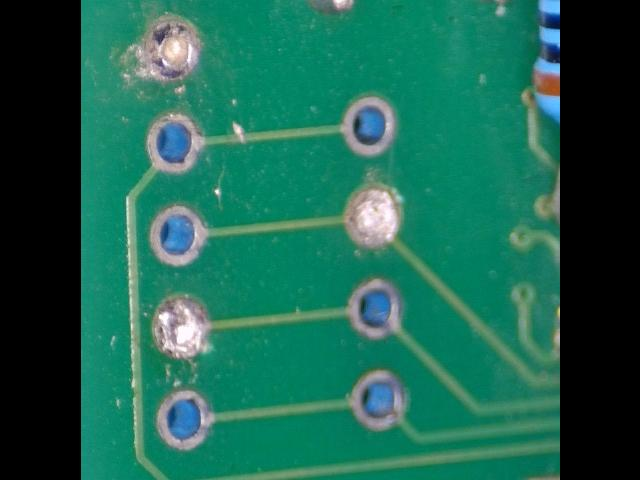Dry_joint: (153, 299, 210, 359), (349, 191, 399, 250), (149, 22, 199, 81)
